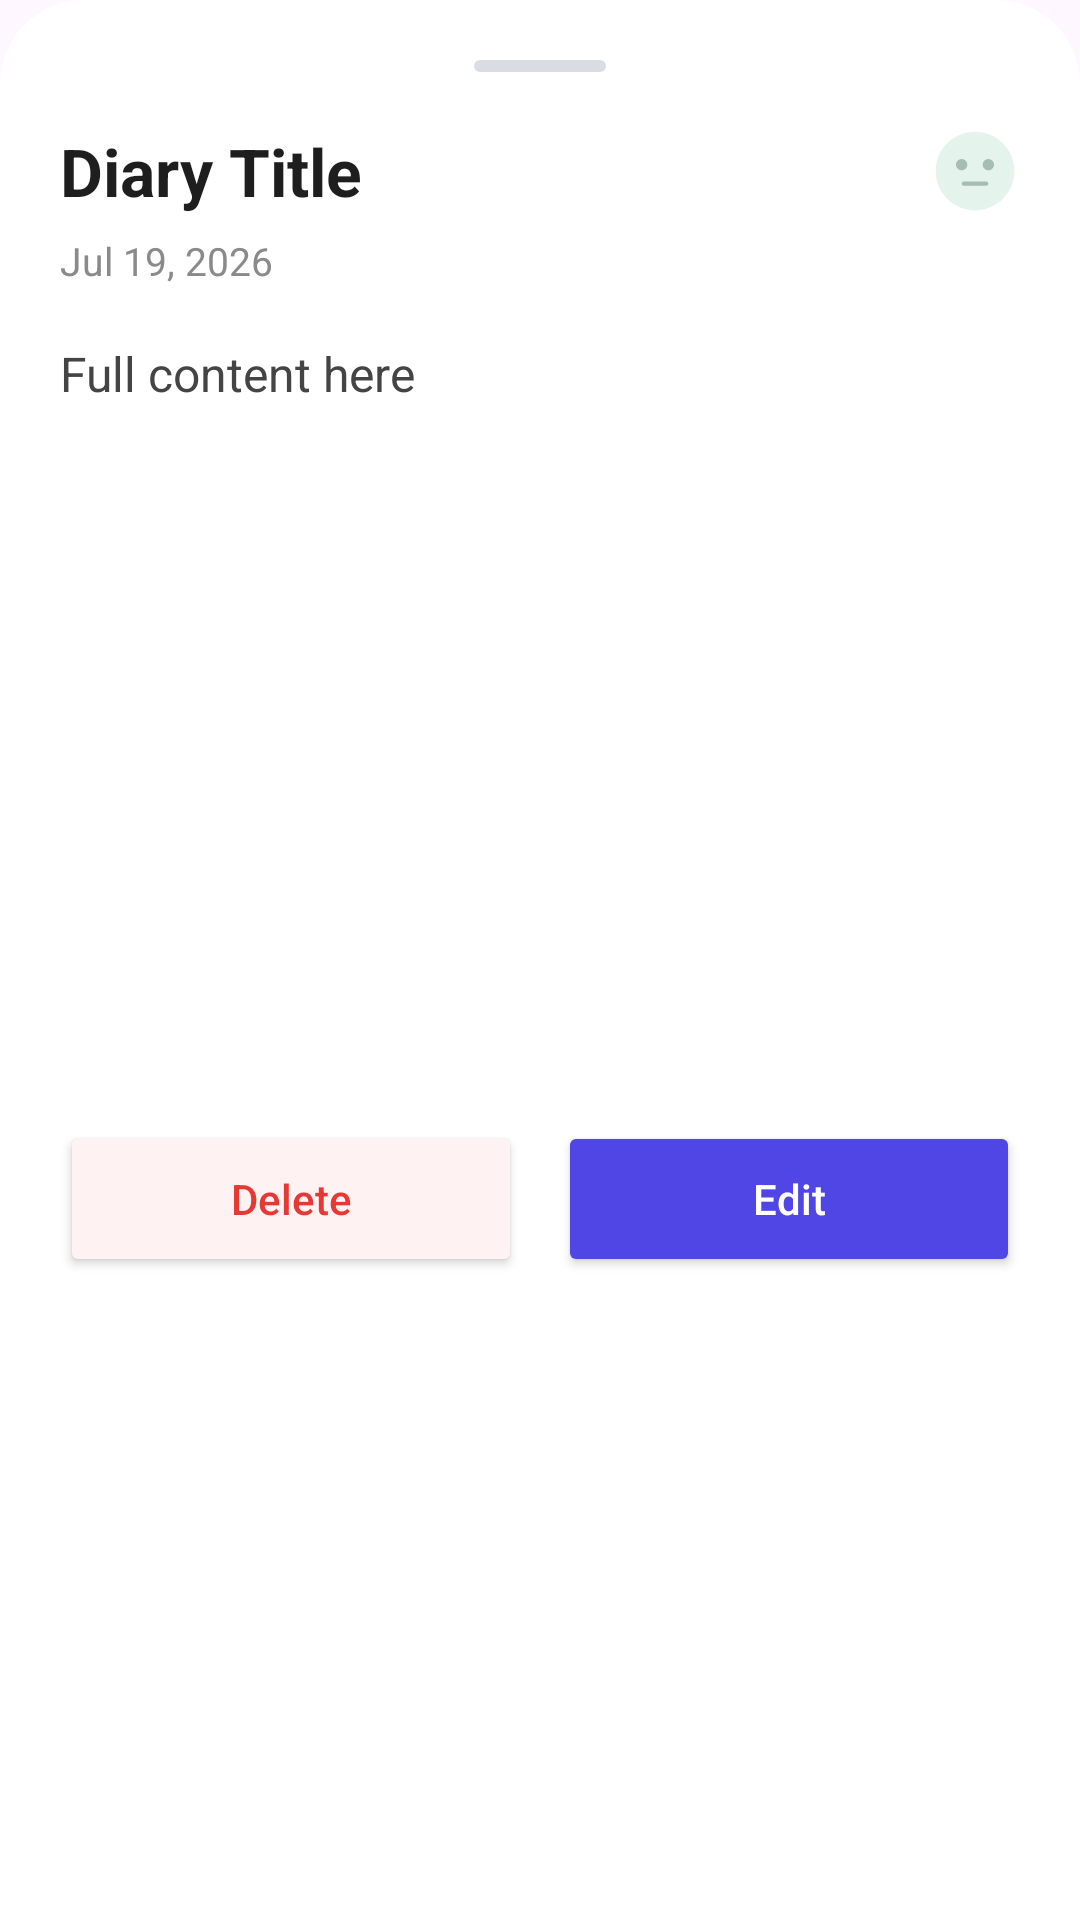

Icons on this 1080w x 1920h Android screen, each with the point to tap as [x,y]:
Diary mood: [975,171]
